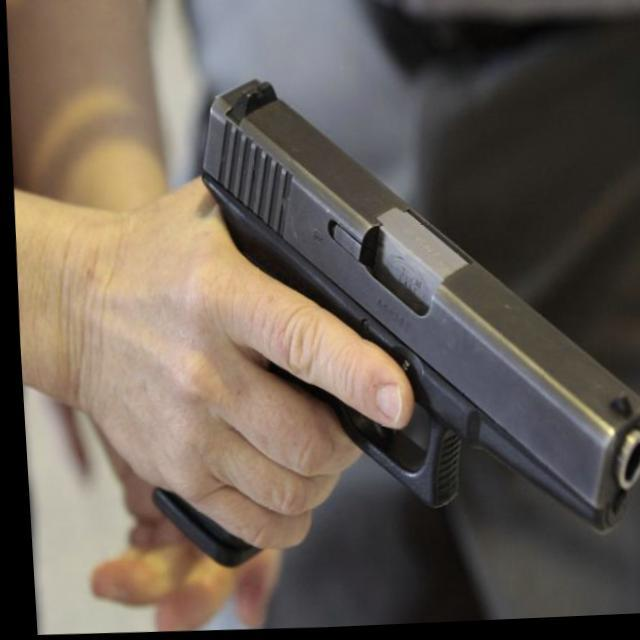weapon: (125, 63, 640, 579)
